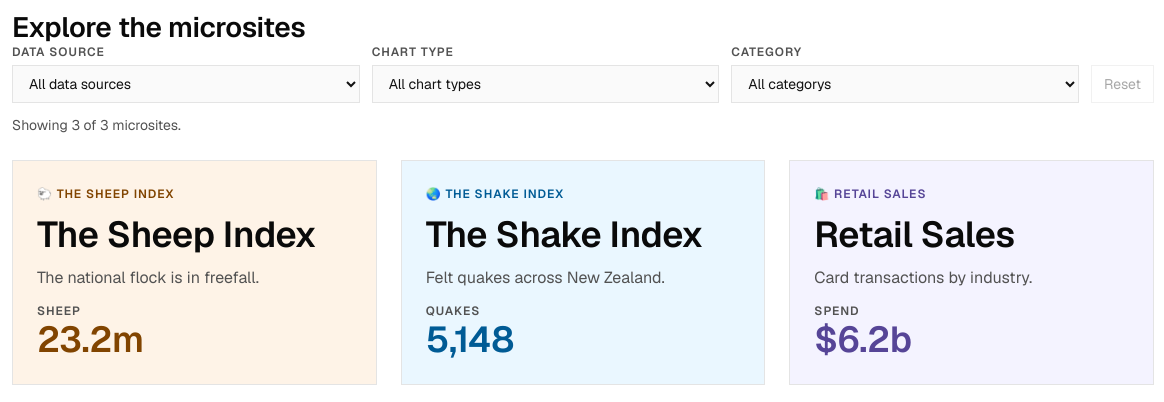
it: MicrositeGallery › filters by data source alone
Select "GeoNet" in the dropdown labelled "Data source" at coordinates (186, 84), box top-left (12, 65), bottom-right (360, 103)
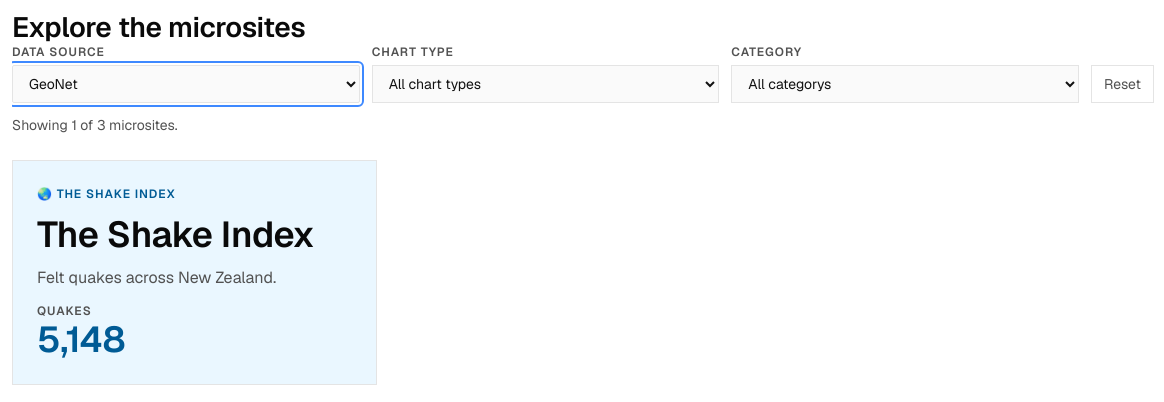
Check: the link "the shake index" is shown, box top-left (12, 160), bottom-right (377, 385)
Check: the link "the sheep index" is gone
Check: the text "Showing 1 of 3 microsites." is shown, box top-left (12, 116), bottom-right (178, 134)
